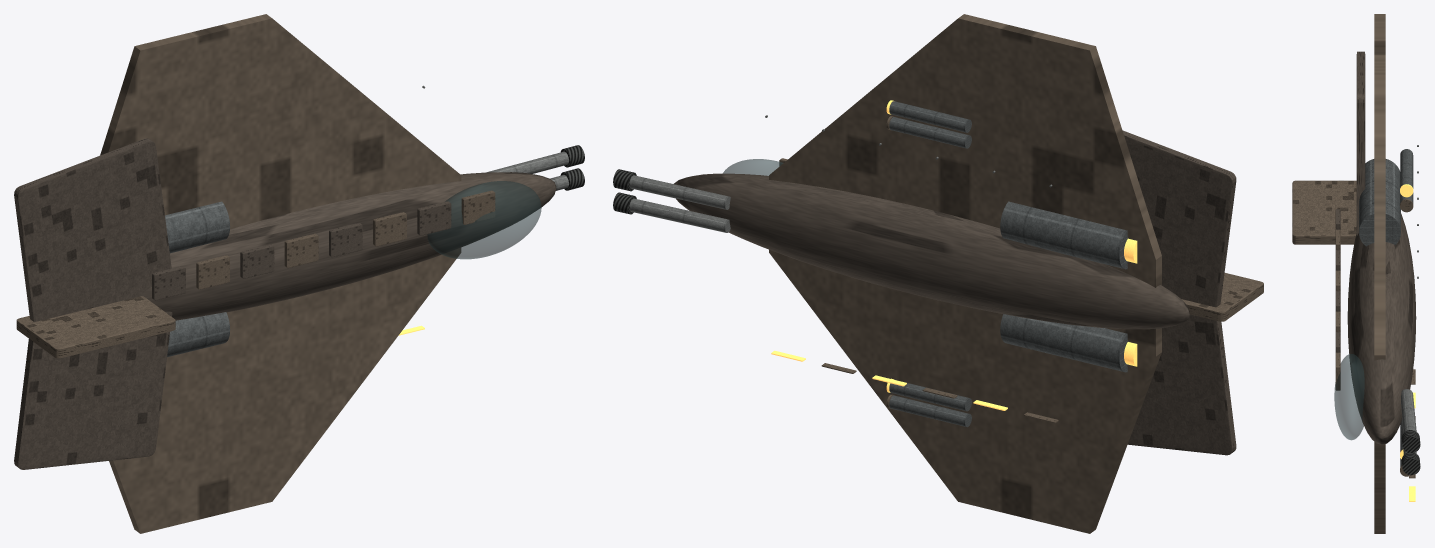
The model's file is d-u26-dominion-bomber-lod0.glb.
3 views of the same model, side by side, from view 1: azimuth 30°, elevation 25°; view 2: azimuth 150°, elevation 25°; view 3: azimuth 270°, elevation 25° (orthographic). The views are drawn at different scales.
Visible parts, largest first — view 1: combat_main_wing, combat_fuselage, combat_tailplane_1, combat_tailplane_-1, combat_fin_0, combat_canopy, combat_engine_2, combat_engine_0, airframe_panel_2, airframe_panel_6, airframe_panel_3, airframe_panel_7 (+5 smaller); view 2: combat_main_wing, combat_fuselage, combat_tailplane_1, combat_tailplane_-1, combat_engine_2, combat_engine_0, combat_fin_0, combat_gun_barrel_0, combat_gun_barrel_1, combat_1_tube_1, combat_-1_tube_1, combat_1_tube_2 (+1 smaller); view 3: combat_fuselage, combat_main_wing, combat_fin_0, combat_engine_2, combat_canopy, combat_tailplane_1, combat_gun_barrel_1, combat_1_tube_2, combat_gun_muzzle_1, combat_gun_muzzle_0, airframe_panel_7.
Part boxes in pixels (left/top/right/bottom): combat_main_wing: left=100, top=14, right=461, bottom=533; combat_fuselage: left=139, top=172, right=556, bottom=320; combat_tailplane_1: left=14, top=138, right=171, bottom=321; combat_tailplane_-1: left=14, top=311, right=172, bottom=469; combat_fin_0: left=16, top=296, right=175, bottom=358; combat_canopy: left=427, top=181, right=541, bottom=259; combat_engine_2: left=165, top=201, right=230, bottom=253; combat_engine_0: left=167, top=312, right=230, bottom=357; airframe_panel_2: left=240, top=244, right=274, bottom=278; airframe_panel_6: left=417, top=201, right=451, bottom=235; airframe_panel_3: left=284, top=233, right=318, bottom=267; airframe_panel_7: left=461, top=190, right=495, bottom=224; combat_main_wing: left=769, top=14, right=1161, bottom=533; combat_fuselage: left=674, top=173, right=1189, bottom=329; combat_tailplane_1: left=1122, top=130, right=1236, bottom=307; combat_tailplane_-1: left=1127, top=303, right=1236, bottom=455; combat_engine_2: left=1000, top=201, right=1127, bottom=269; combat_engine_0: left=1000, top=314, right=1127, bottom=372; combat_fin_0: left=1181, top=273, right=1263, bottom=321; combat_gun_barrel_0: left=629, top=198, right=730, bottom=232; combat_gun_barrel_1: left=629, top=175, right=730, bottom=209; combat_1_tube_1: left=889, top=117, right=971, bottom=148; combat_-1_tube_1: left=889, top=395, right=971, bottom=427; combat_1_tube_2: left=889, top=101, right=971, bottom=132; combat_fuselage: left=1347, top=213, right=1416, bottom=444; combat_main_wing: left=1374, top=14, right=1385, bottom=533; combat_fin_0: left=1292, top=180, right=1356, bottom=244; combat_engine_2: left=1359, top=159, right=1400, bottom=246; combat_canopy: left=1334, top=354, right=1364, bottom=440; combat_tailplane_1: left=1356, top=51, right=1365, bottom=235; combat_gun_barrel_1: left=1401, top=389, right=1416, bottom=432; combat_1_tube_2: left=1400, top=149, right=1413, bottom=188; combat_gun_muzzle_1: left=1401, top=430, right=1420, bottom=453; combat_gun_muzzle_0: left=1401, top=452, right=1420, bottom=475; airframe_panel_7: left=1335, top=352, right=1340, bottom=390.
Size of what is drawn, in the model's own units: 17.08 by 13.36 by 3.38.
Materials: 7 (7 with a texture image).
